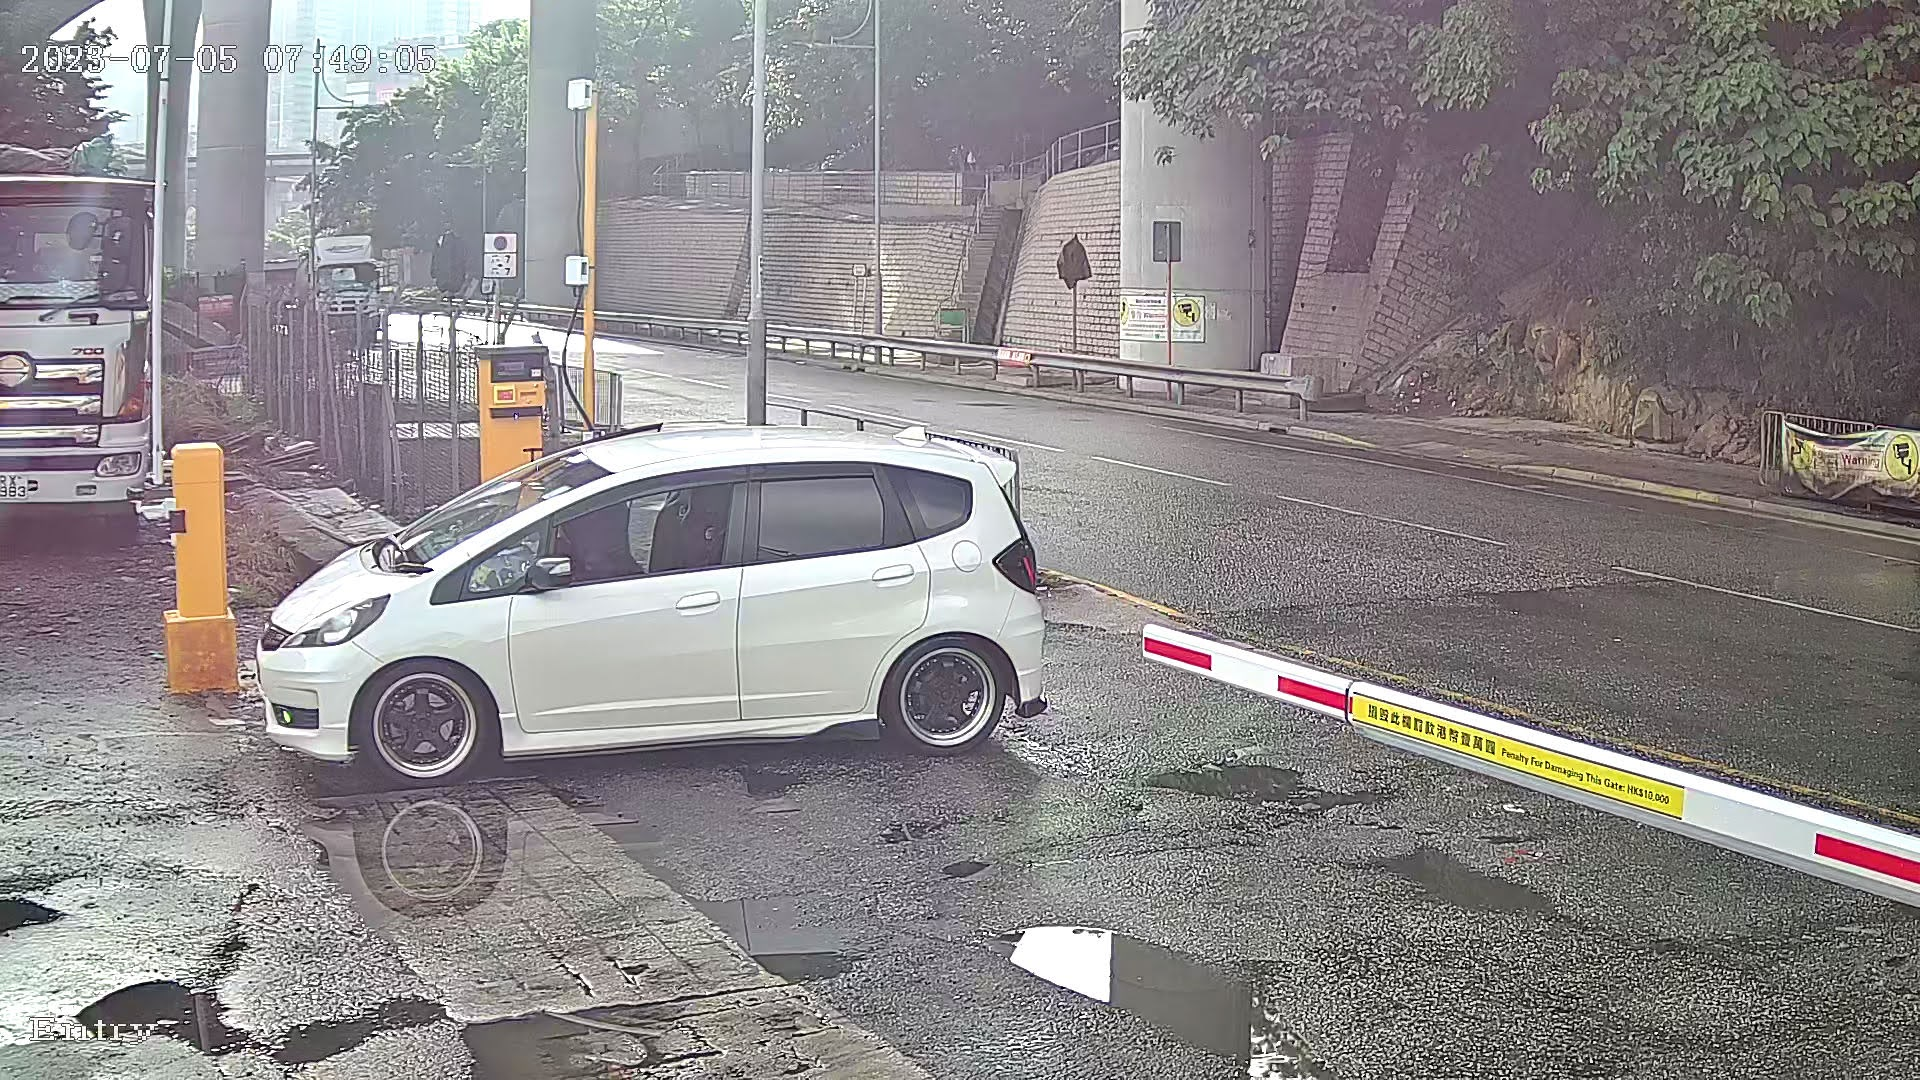privatecar: (225, 372, 1106, 825)
